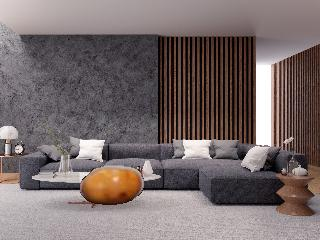potato: (80, 166, 143, 207)
